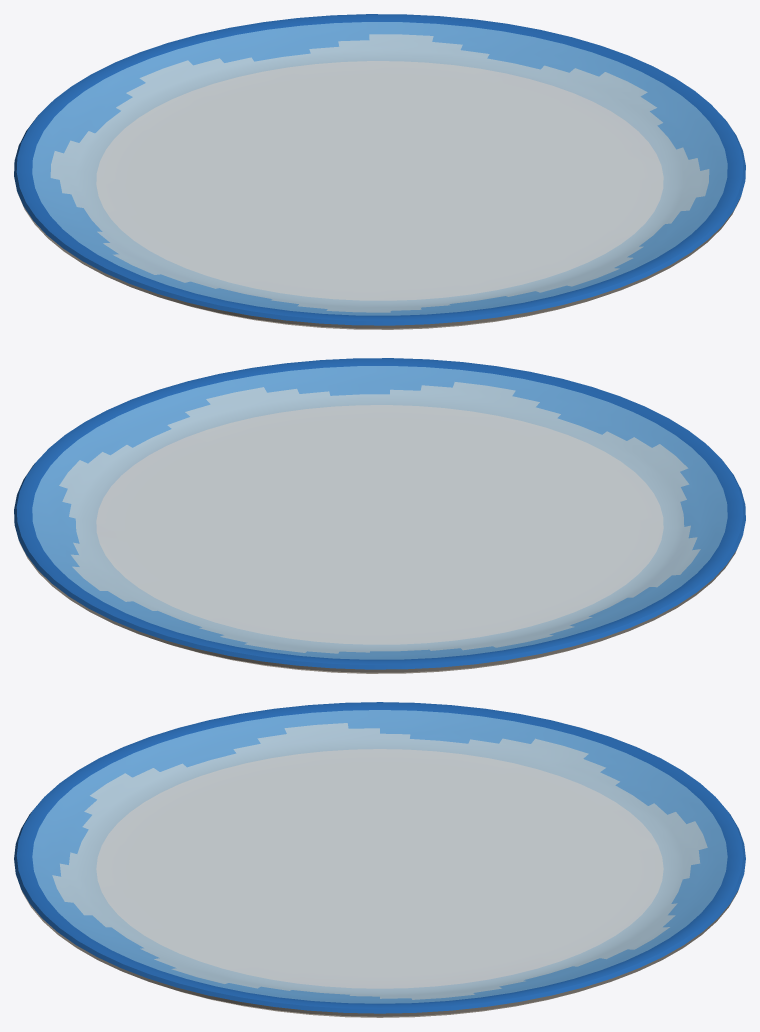
The model's file is plate_waves.glb.
The picture shows the model from 3 angles, top to bottom: view 1: azimuth 30°, elevation 25°; view 2: azimuth 150°, elevation 25°; view 3: azimuth 270°, elevation 25°; orthographic projection.
Parts seen in each view (by area): view 1: body; view 2: body; view 3: body.
Part boxes in pixels (x1,y1,x2,y2): body: (14, 14, 745, 329); body: (14, 358, 745, 673); body: (14, 702, 745, 1017).
Bounding box in the file's own units: 1.6 × 0.0939 × 1.6.
